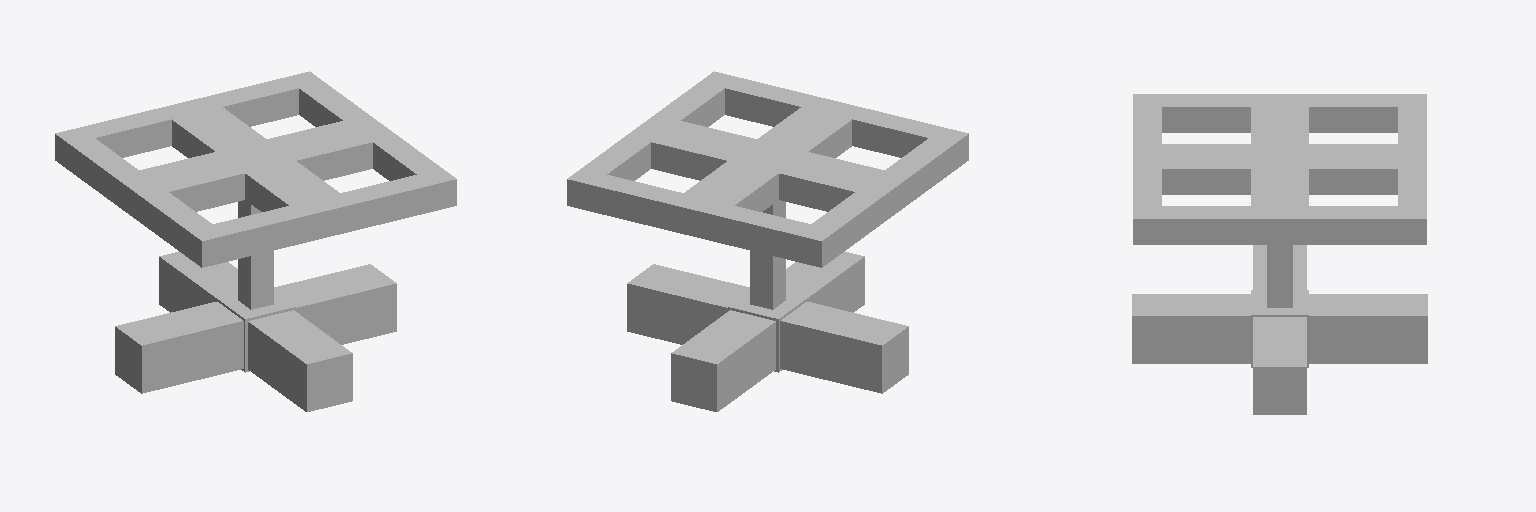
File: walkway.obj
The picture shows the model from 3 angles: view 1: azimuth 30°, elevation 25°; view 2: azimuth 150°, elevation 25°; view 3: azimuth 270°, elevation 25°; orthographic projection.
Visible parts, largest first — view 1: Walkway, Pipe; view 2: Walkway, Pipe; view 3: Walkway, Pipe.
Boxes of the visible parts, box(x1,y1,x2,y2) form: Walkway: box(55, 71, 456, 372); Pipe: box(115, 252, 396, 411); Walkway: box(567, 71, 968, 372); Pipe: box(627, 252, 908, 411); Walkway: box(1133, 94, 1426, 367); Pipe: box(1132, 245, 1427, 414).
Size of the model in its own units: 2 by 1.49 by 2.